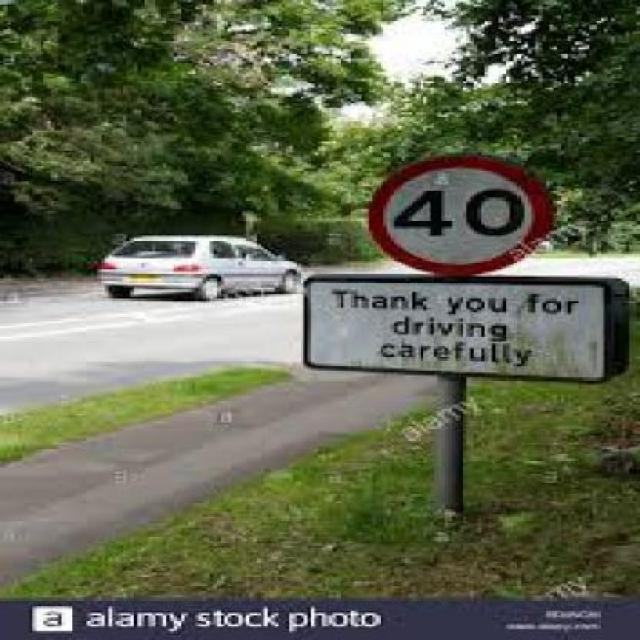forb_speed_over_40: (376, 157, 541, 271)
